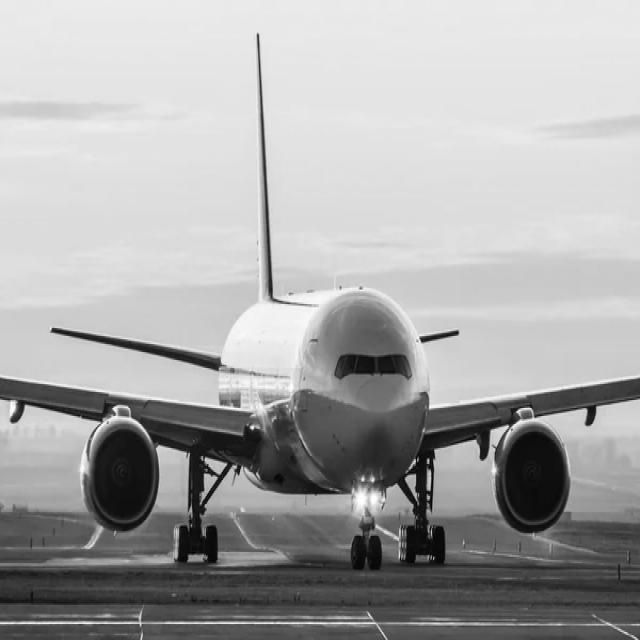Aircraft: (0, 71, 640, 574)
